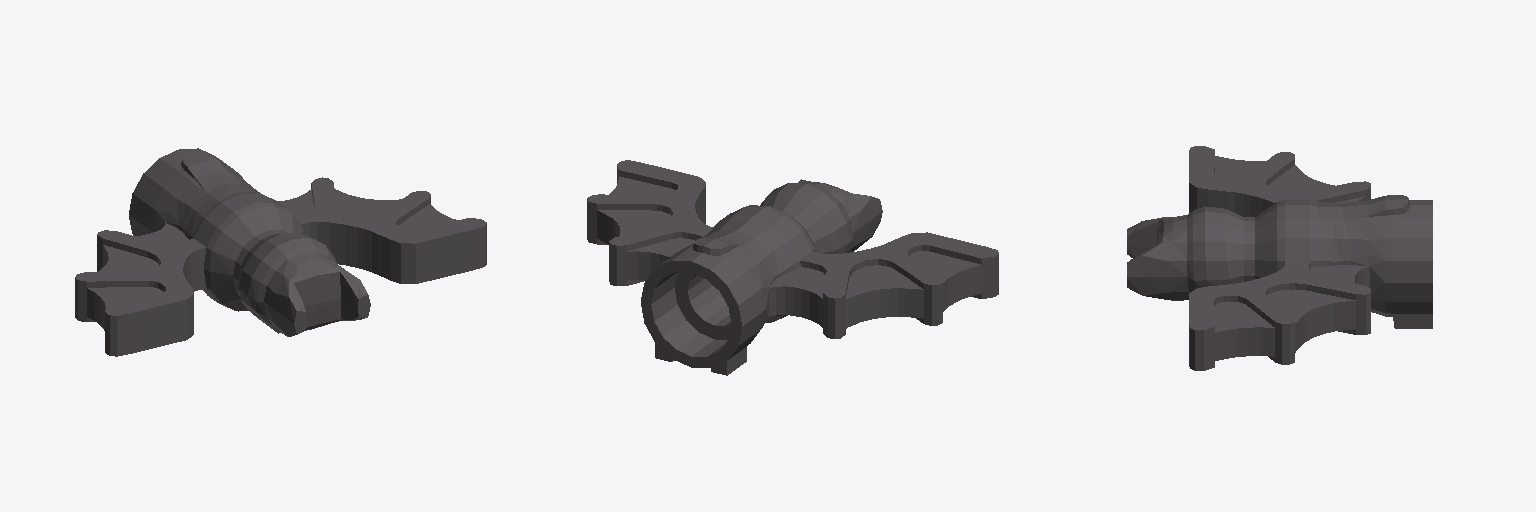
File: bat.obj
3 renders of one model, left to right at view 1: azimuth 30°, elevation 25°; view 2: azimuth 150°, elevation 25°; view 3: azimuth 270°, elevation 25°, orthographic.
Parts seen in each view (by area): view 1: Piece000; view 2: Piece000; view 3: Piece000.
Boxes of the visible parts, <box> form: Piece000: <box>75,148,486,356</box>; Piece000: <box>587,160,998,375</box>; Piece000: <box>1127,146,1432,370</box>.
Size of the model in its own units: 56.5 by 16.35 by 39.61.